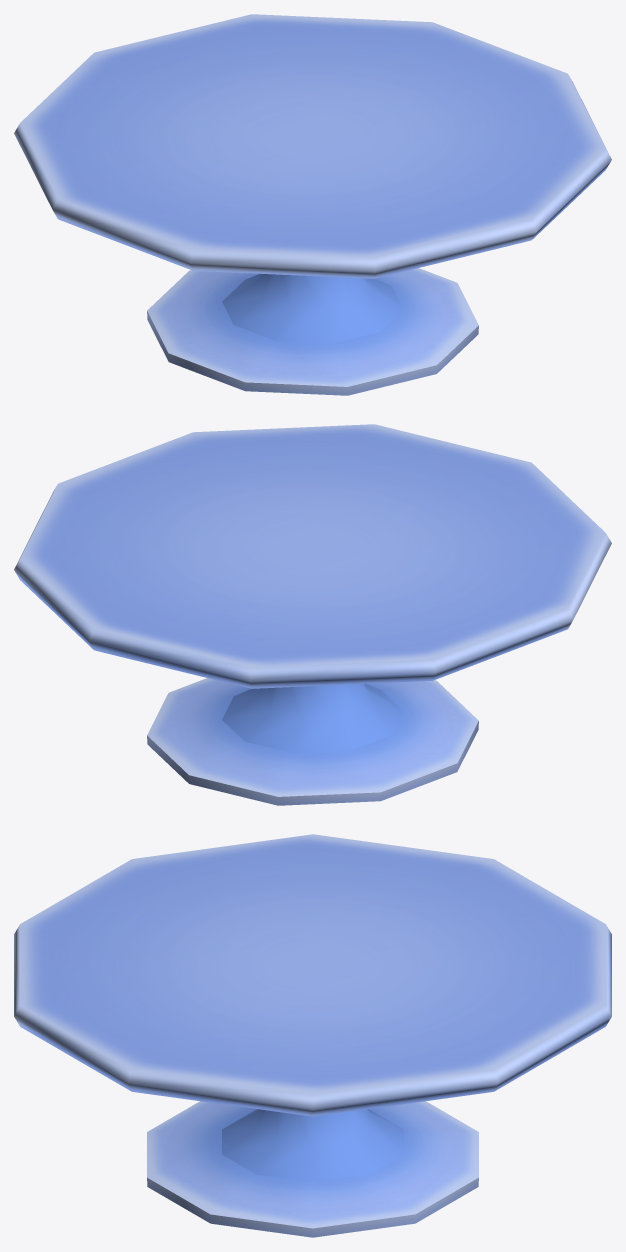
The model's file is Blue_Display_Small.fbx.
3 renders of one model, top to bottom at view 1: azimuth 30°, elevation 25°; view 2: azimuth 150°, elevation 25°; view 3: azimuth 270°, elevation 25°, orthographic. The views are drawn at different scales.
Visible parts, largest first — view 1: Blue_Display_Small; view 2: Blue_Display_Small; view 3: Blue_Display_Small.
Part boxes in pixels (left/top/right/bottom): Blue_Display_Small: left=14, top=14, right=611, bottom=395; Blue_Display_Small: left=14, top=424, right=611, bottom=805; Blue_Display_Small: left=14, top=834, right=611, bottom=1237.
Size of the model in its own units: 66.95 by 23.46 by 63.67.
